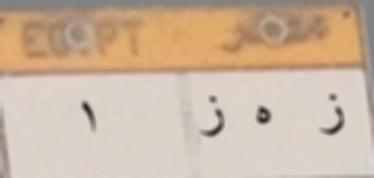1: (80, 99, 99, 136)
haa: (250, 103, 275, 129)
zay: (315, 88, 349, 138), (200, 93, 227, 138)
